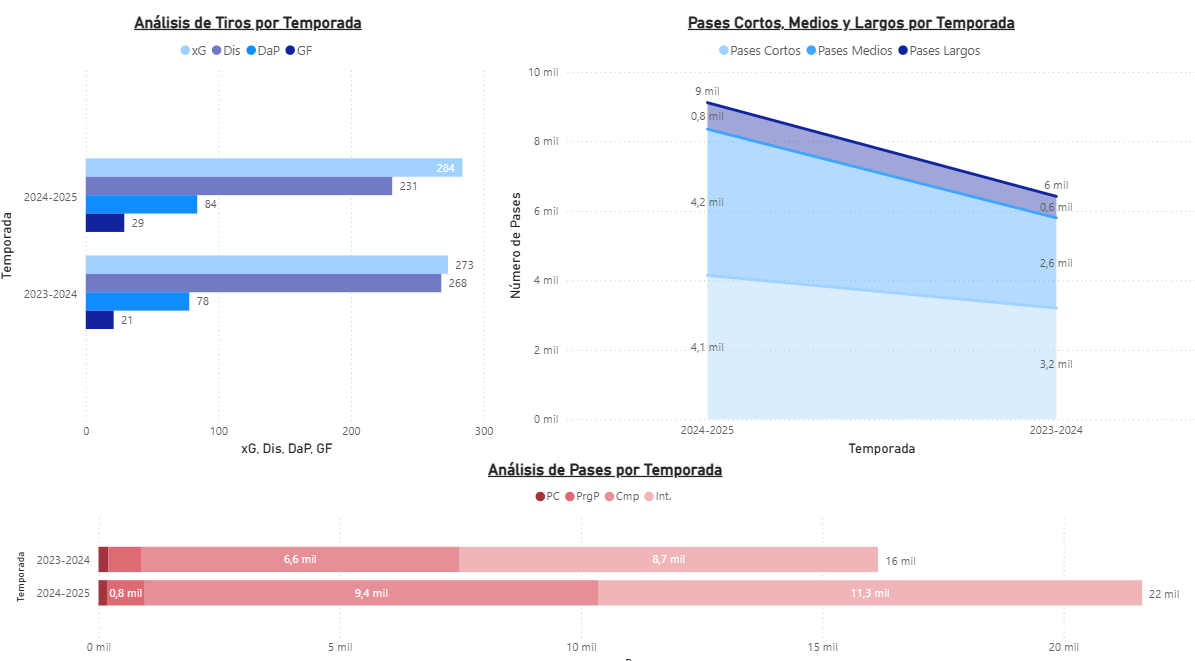

Layout of this report page (visuals, bound fields, positions):
{"tool":"powerbi","page":{"name":"Análisis Ofensivo","canvas":[1280,720],"ordinal":1},"visuals":[{"type":"clusteredBarChart","title":"Análisis de Tiros por Temporada","fields":{"Category":["Temporadas Anexadas.Temporada"],"Y":["Sum(Temporadas Anexadas.xG)","Sum(Temporadas Anexadas.Dis)","Sum(Temporadas Anexadas.DaP)","Sum(Temporadas Anexadas.GF)"]},"box":[0,20.8,538.6,474.3],"z":0},{"type":"barChart","title":"Análisis de Pases por Temporada","fields":{"Category":["Temporadas Anexadas.Temporada"],"Y":["Sum(Temporadas Anexadas.PC)","Sum(Temporadas Anexadas.PrgP)","Sum(Temporadas Anexadas.Cmp)","Sum(Temporadas Anexadas.Int.)"]},"box":[17.5,494.7,1261.4,225.9],"z":1000},{"type":"stackedAreaChart","title":"Pases Cortos, Medios y Largos por Temporada","fields":{"Category":["Temporadas Anexadas.Temporada"],"Y":["Sum(Temporadas Anexadas.Cmp_1)","Sum(Temporadas Anexadas.Cmp_4)","Sum(Temporadas Anexadas.Cmp_7)"]},"box":[539,21,740,474],"z":2000}]}

Visuals, with their boxes in screenshot pixels (x1, y1, x2, y2), scaled from the page's 1280x720 canvas onto the 1195x661 screenshot:
"Análisis de Tiros por Temporada" clusteredBarChart: Rect(0, 19, 503, 455)
"Análisis de Pases por Temporada" barChart: Rect(16, 454, 1194, 660)
"Pases Cortos, Medios y Largos por Temporada" stackedAreaChart: Rect(503, 19, 1194, 454)
